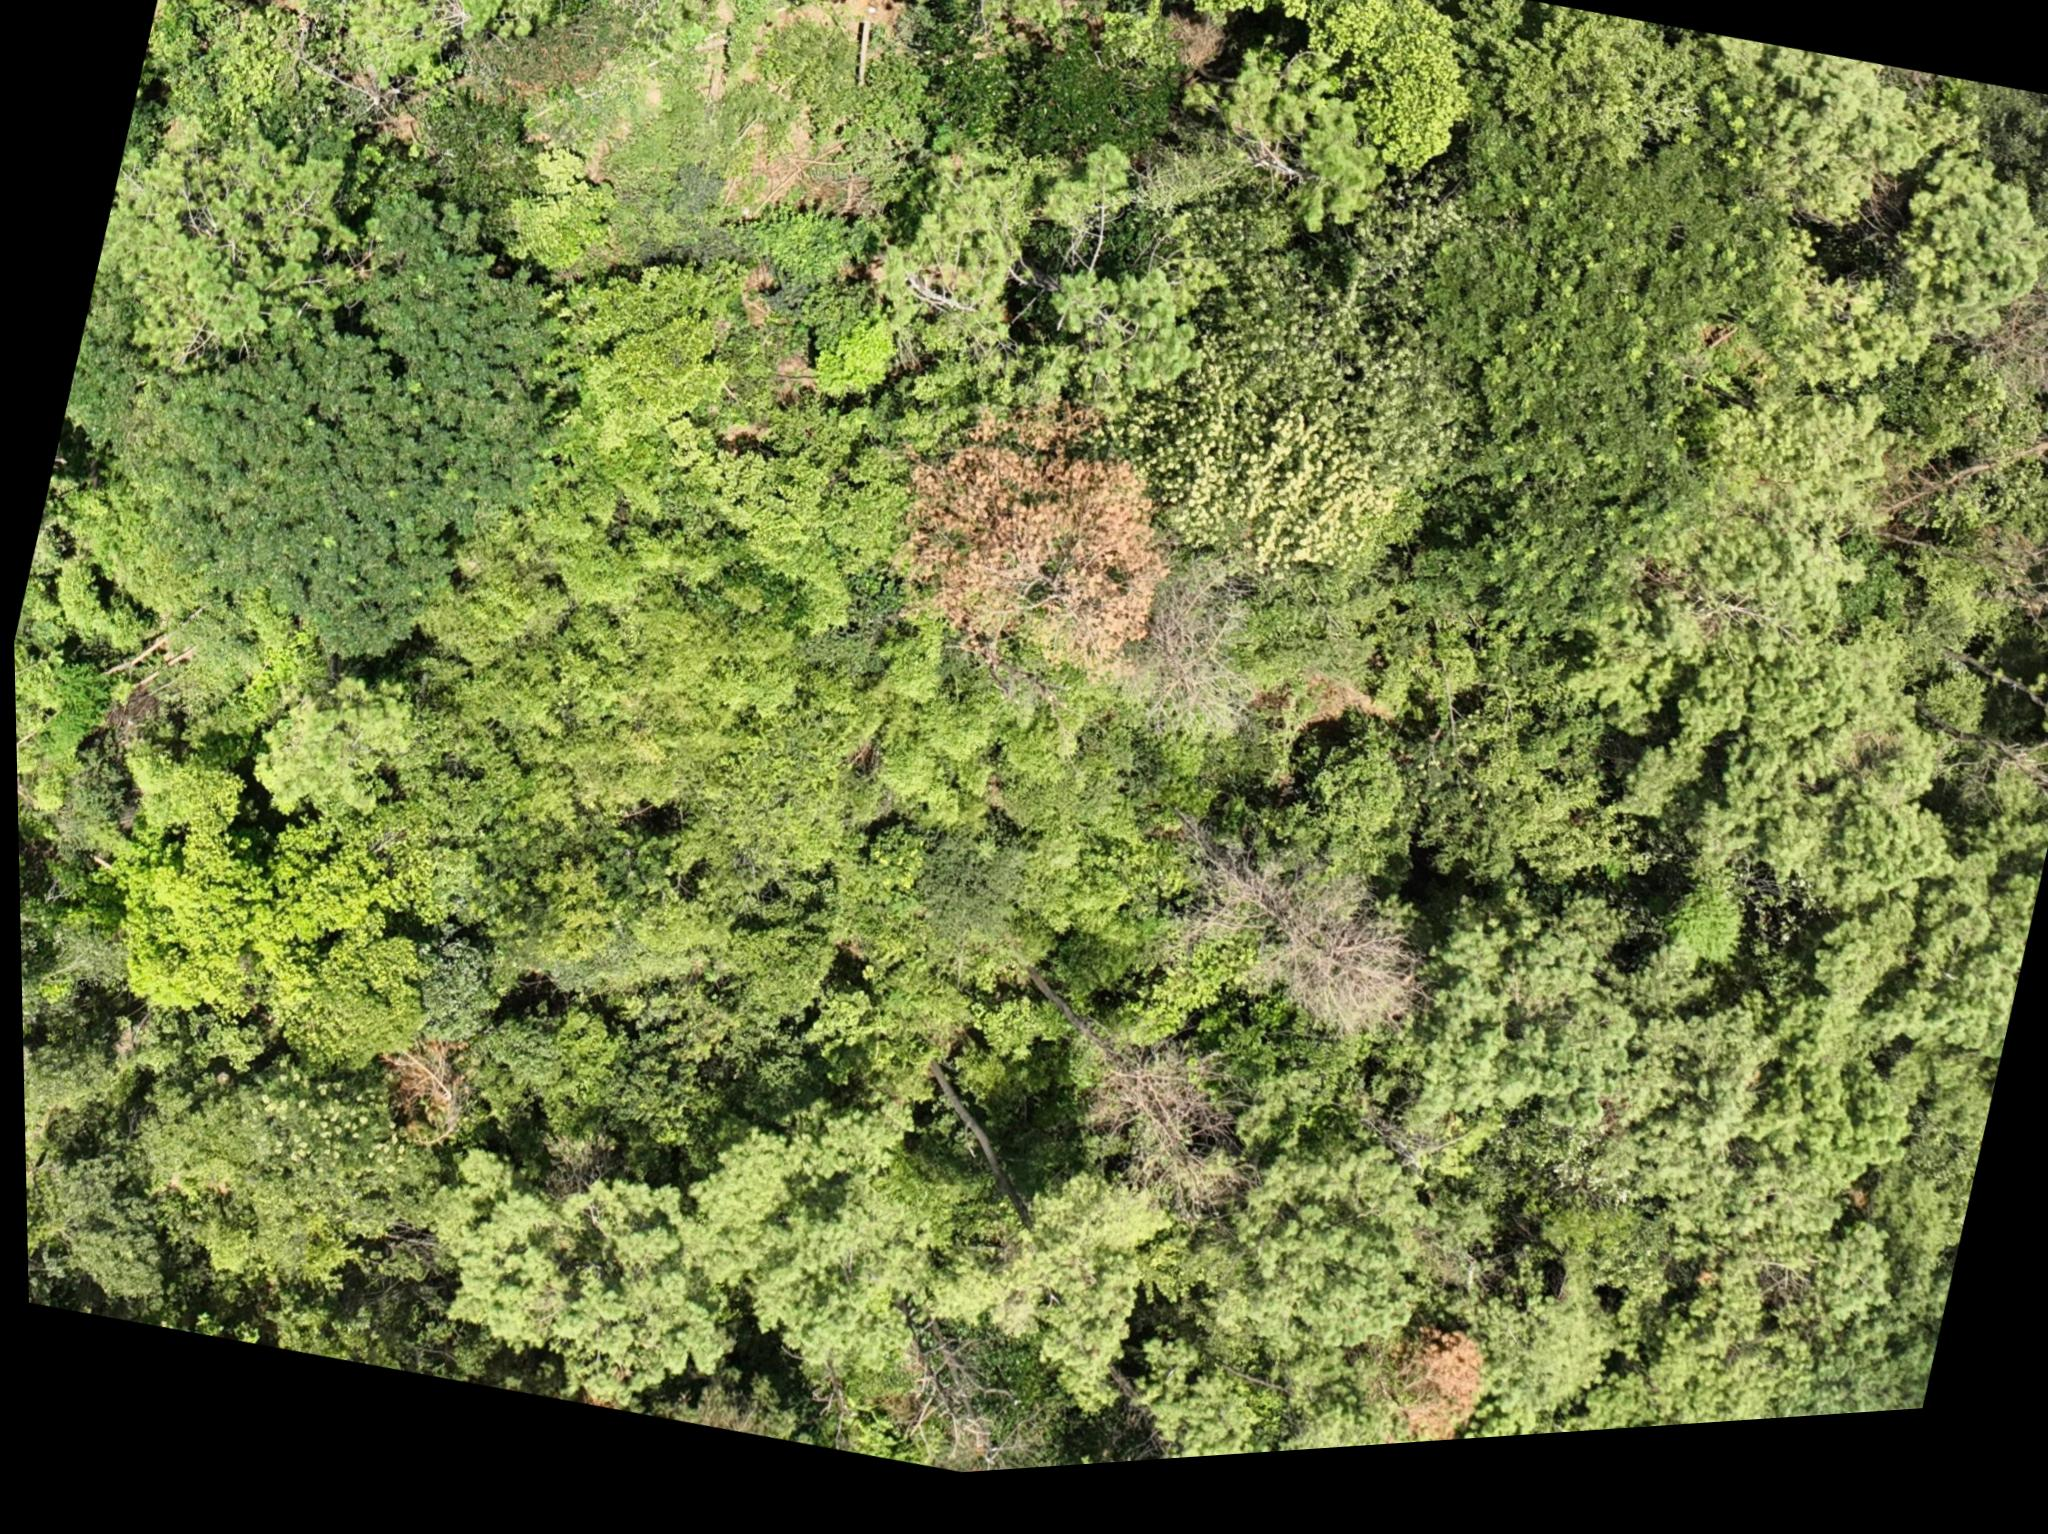dead: (1075, 1049, 1257, 1231), (1250, 906, 1420, 1070), (1133, 590, 1268, 764)
heavy: (877, 379, 1197, 703), (1358, 1333, 1492, 1465), (369, 1023, 483, 1152)
